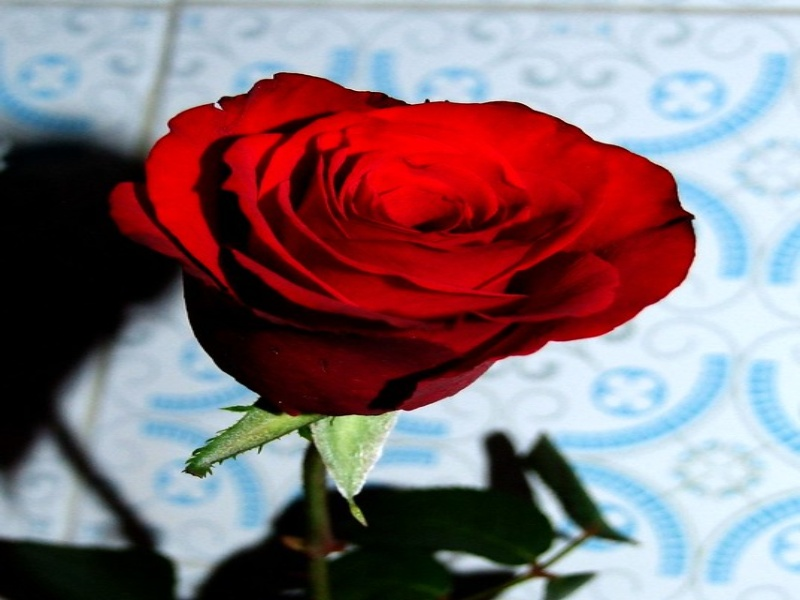rose: (73, 48, 718, 454)
